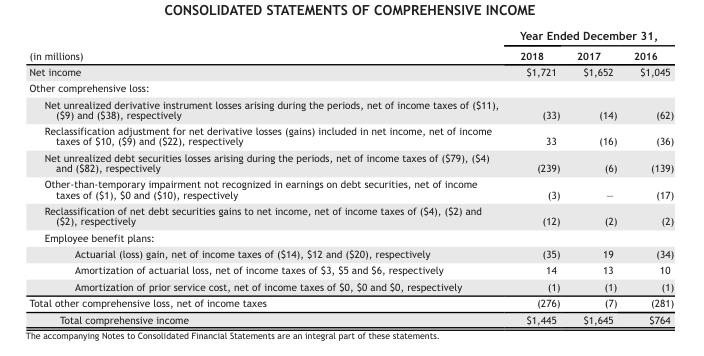table: (28, 28, 673, 324)
table column: (28, 28, 508, 324), (508, 28, 567, 324), (567, 28, 624, 324), (624, 28, 673, 324)
table column header: (28, 28, 673, 63)
table projected row header: (28, 228, 673, 245), (28, 79, 673, 95)
table row: (28, 95, 673, 122), (28, 122, 673, 149), (28, 175, 673, 202), (28, 149, 673, 175), (28, 202, 673, 228), (28, 45, 673, 63), (28, 28, 673, 45), (28, 228, 673, 245), (28, 261, 673, 278), (28, 63, 673, 79), (28, 79, 673, 95), (28, 245, 673, 261), (28, 278, 673, 294), (28, 294, 673, 310), (28, 310, 673, 324)
table spanning cell: (28, 28, 508, 63), (508, 28, 673, 45)
